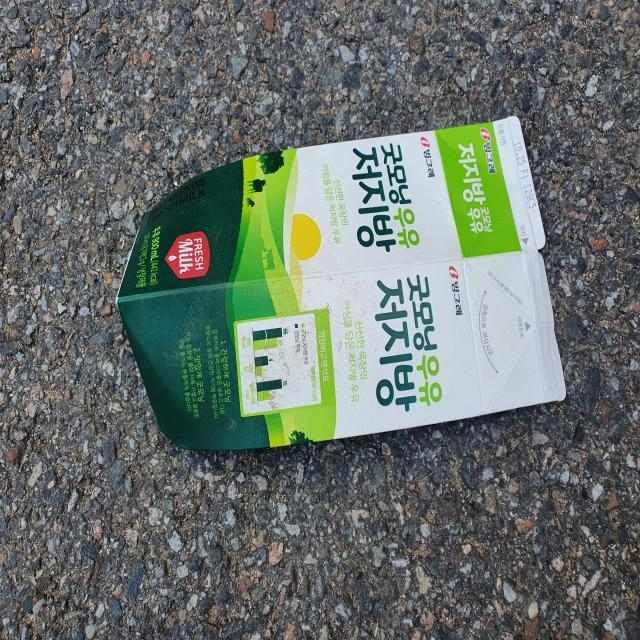paperpack: (116, 116, 567, 450)
